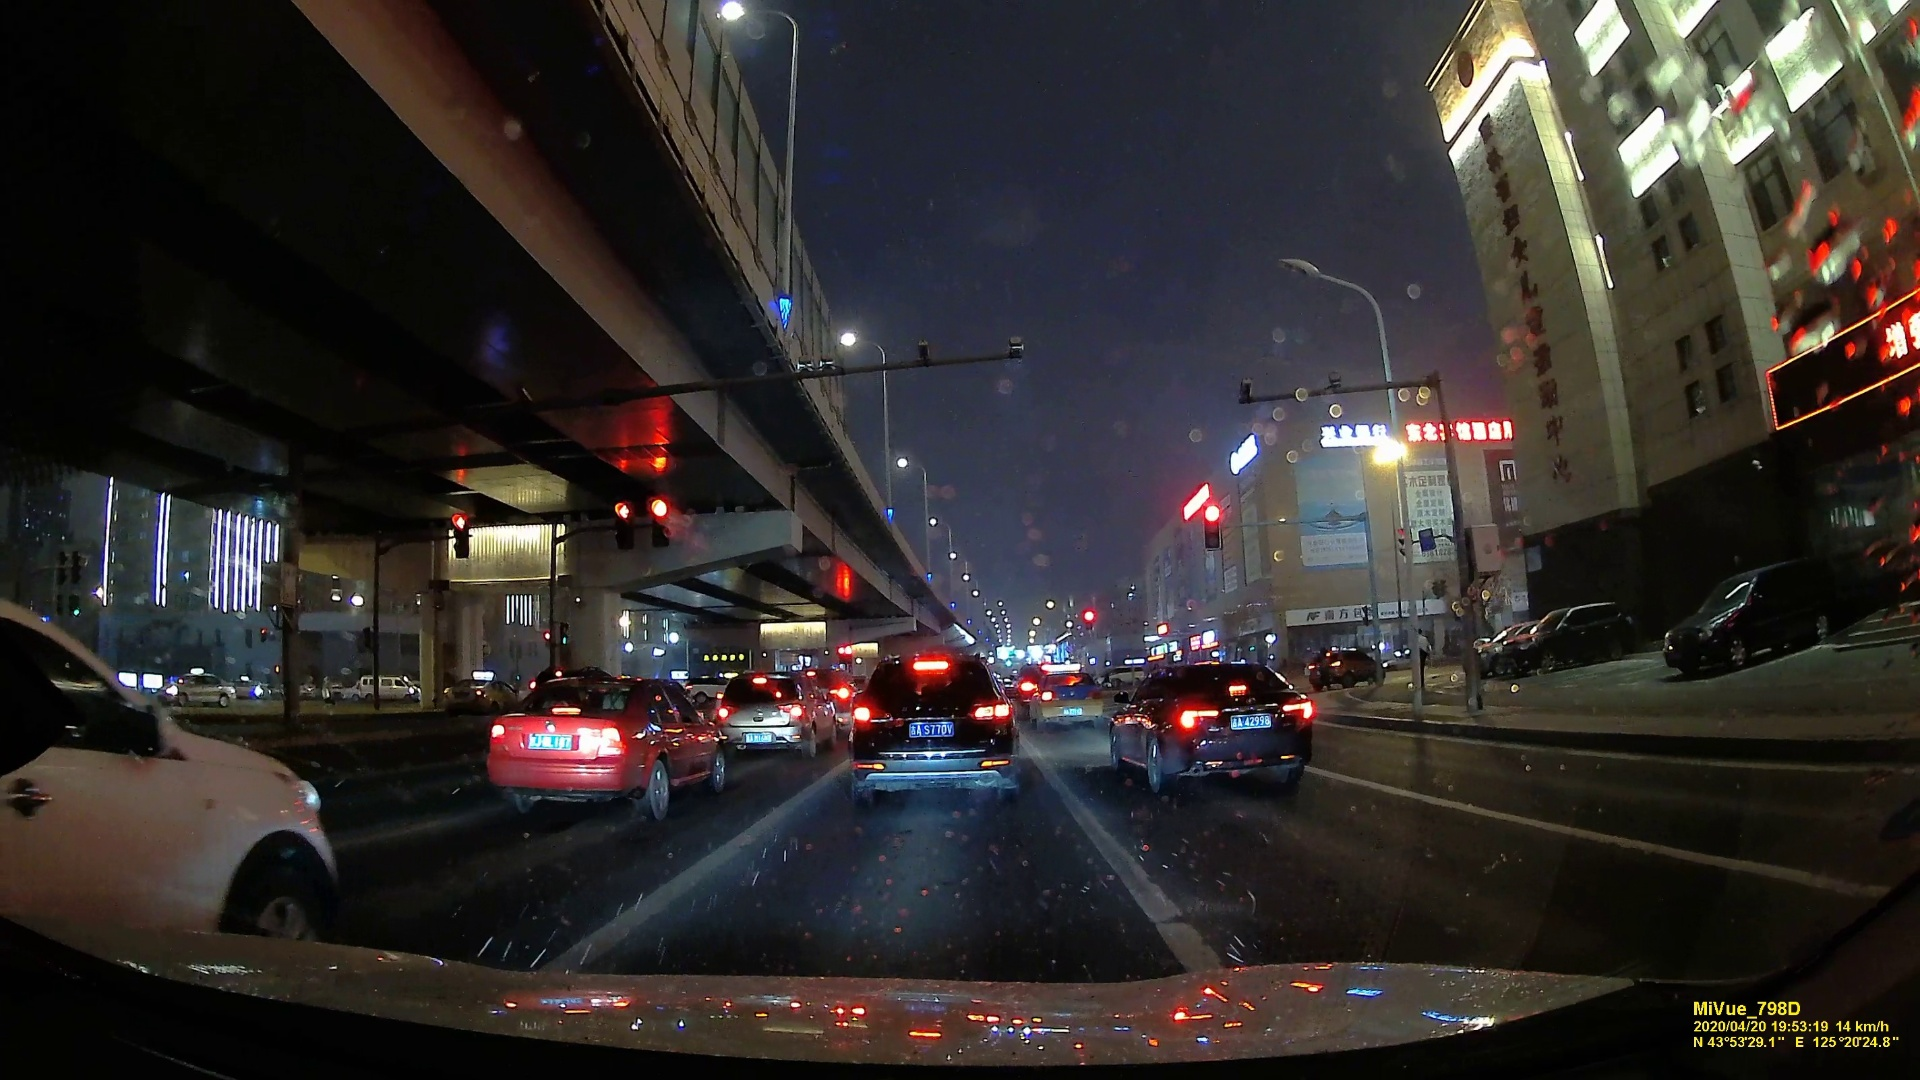person: (1409, 626, 1434, 689)
traffic_sign: (649, 498, 671, 545), (610, 500, 632, 545), (453, 512, 473, 558), (1202, 503, 1223, 544)
vehicle: (5, 597, 337, 951), (485, 678, 721, 821), (1102, 659, 1314, 795), (846, 653, 1010, 806), (1663, 556, 1844, 674), (713, 673, 837, 758), (1026, 664, 1108, 729), (1310, 647, 1386, 689), (161, 670, 232, 703)
